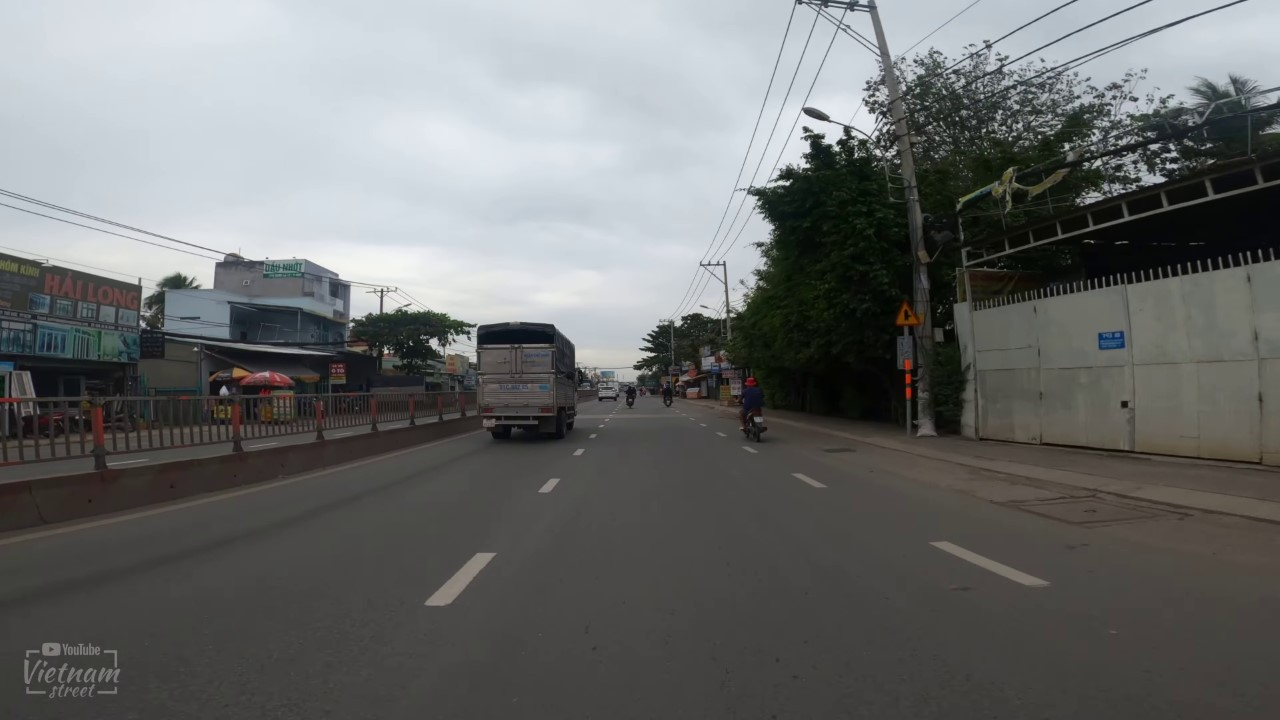giao_khong_uu_tien_phai: (891, 299, 922, 328)
